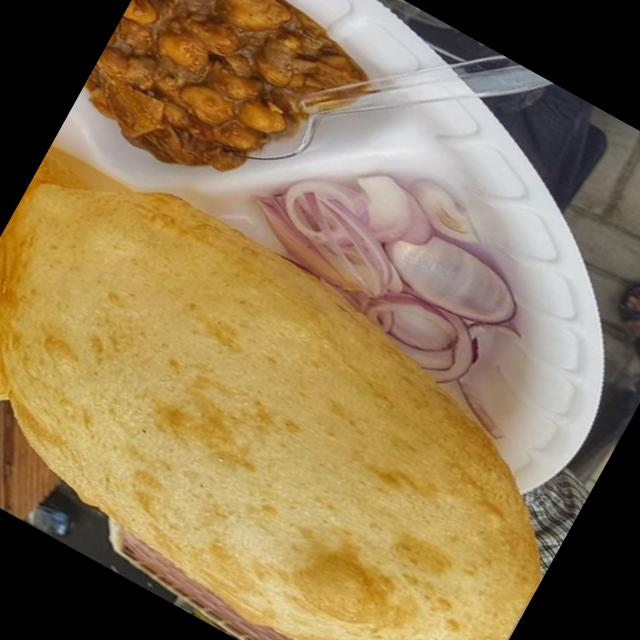Bhatura: (0, 131, 618, 640)
Chole: (69, 0, 378, 231)
